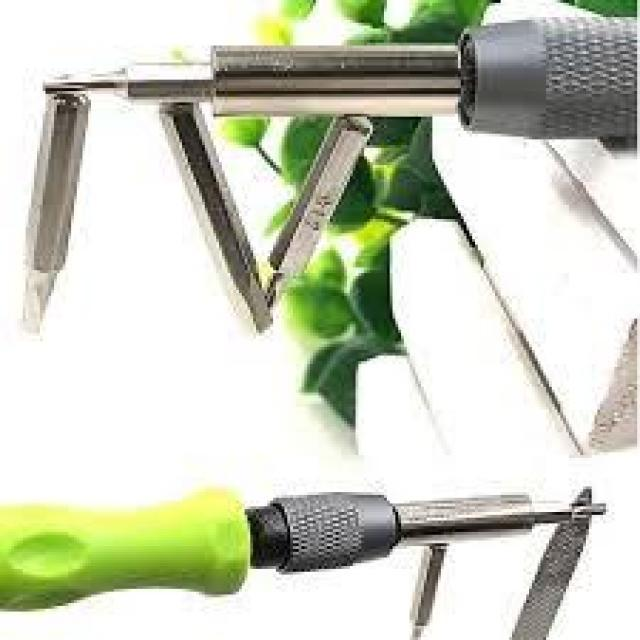screwdriver: (0, 483, 620, 618)
